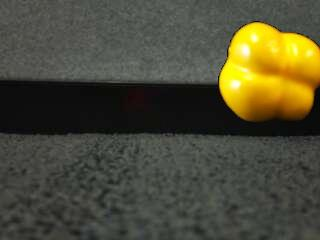Capsicum: (219, 21, 320, 123)
